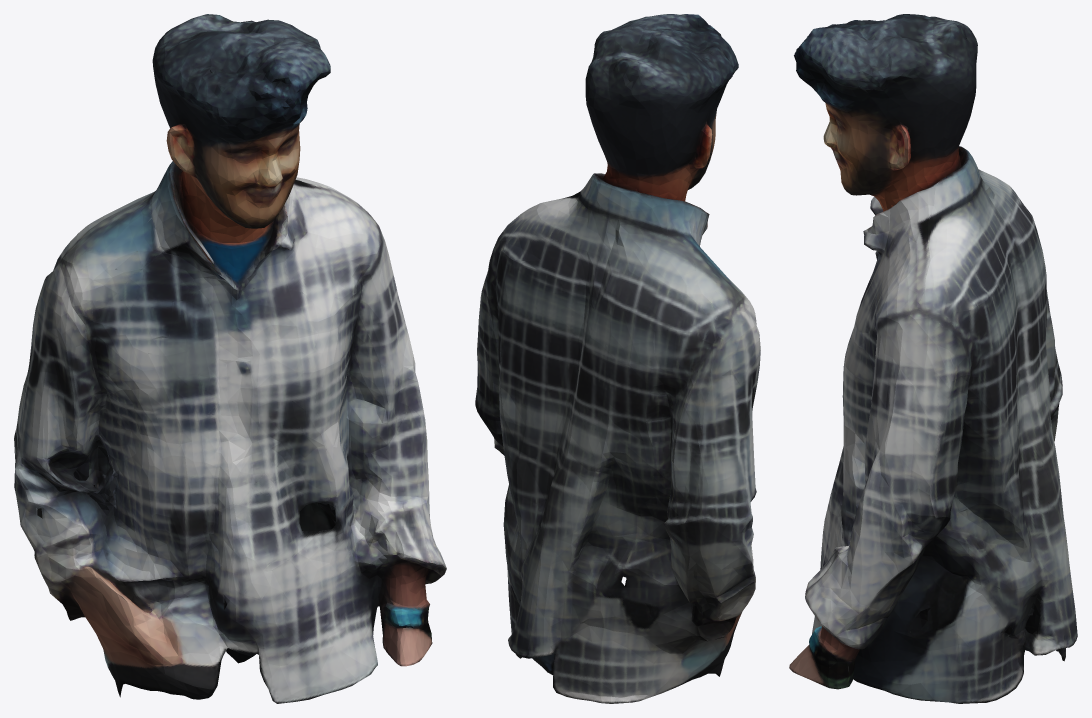
Rendered from plaid-shirt.glb.
The picture shows the model from 3 angles, left to right: view 1: azimuth 30°, elevation 25°; view 2: azimuth 150°, elevation 25°; view 3: azimuth 270°, elevation 25°; orthographic projection. The views are drawn at different scales.
Parts seen in each view (by area): view 1: world; view 2: world; view 3: world.
Part boxes in pixels (left/top/right/bottom): world: left=14, top=14, right=446, bottom=703; world: left=475, top=14, right=760, bottom=703; world: left=789, top=14, right=1077, bottom=703.
Bounding box in the file's own units: 0.5413 × 0.9973 × 0.4137.
Materials: 1 (1 with a texture image).
